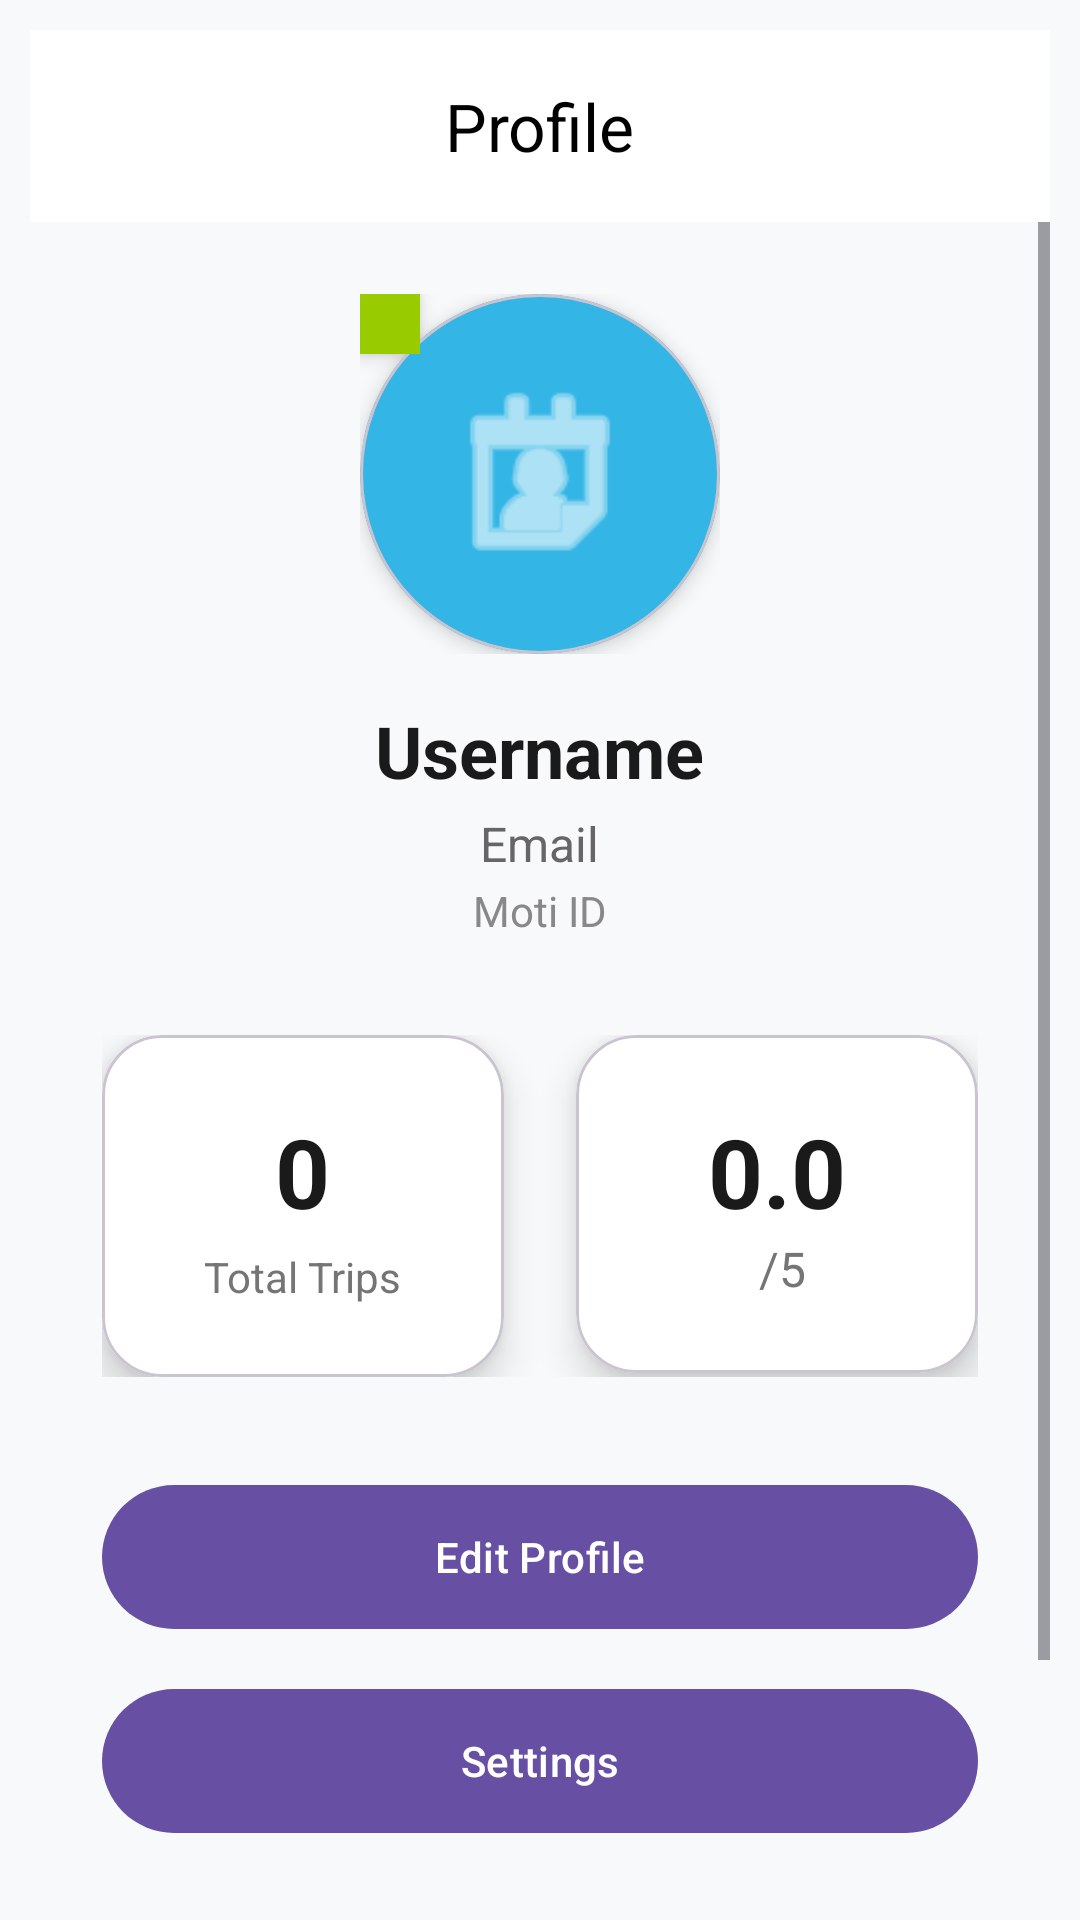

Locate icon controls on the screen. Image size 1080 x 1920, boxes as rect(x1, y1, x2, y2).
calendar: rect(360, 294, 720, 654)
